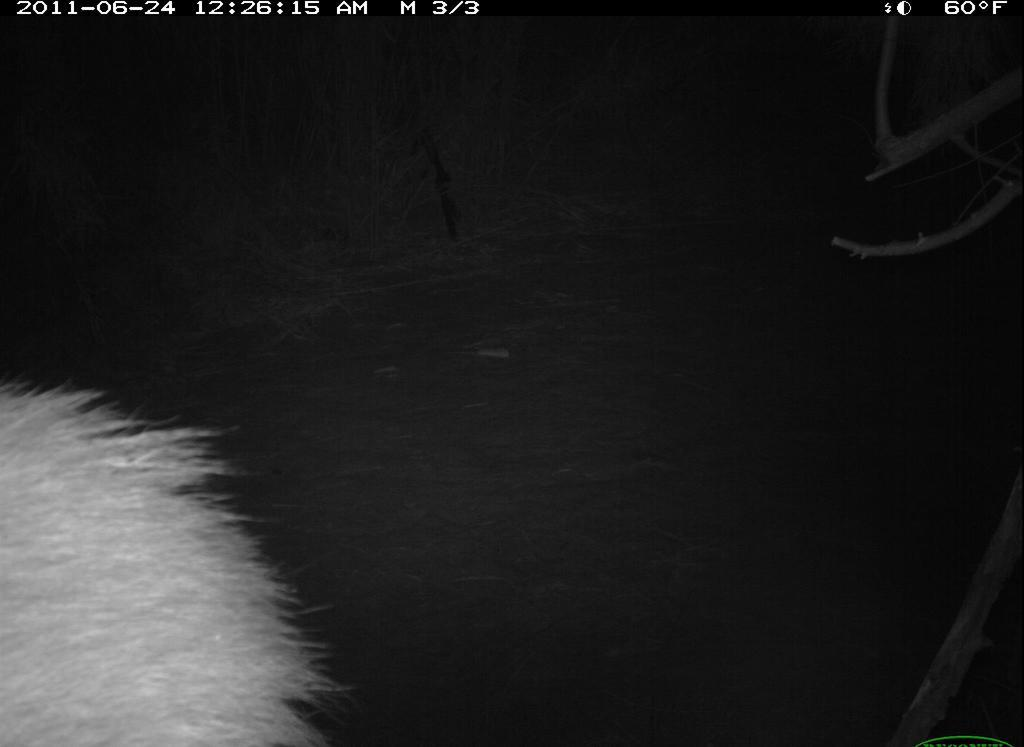raccoon: (1, 372, 345, 741)
